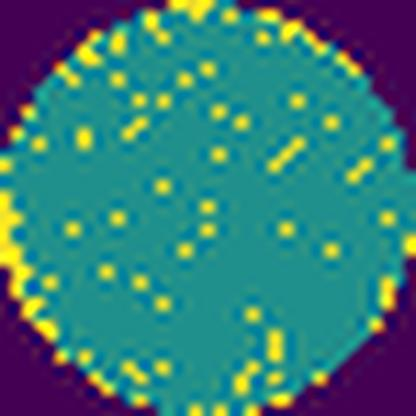Edge-Loc: (0, 184, 60, 343), (168, 0, 214, 25)
